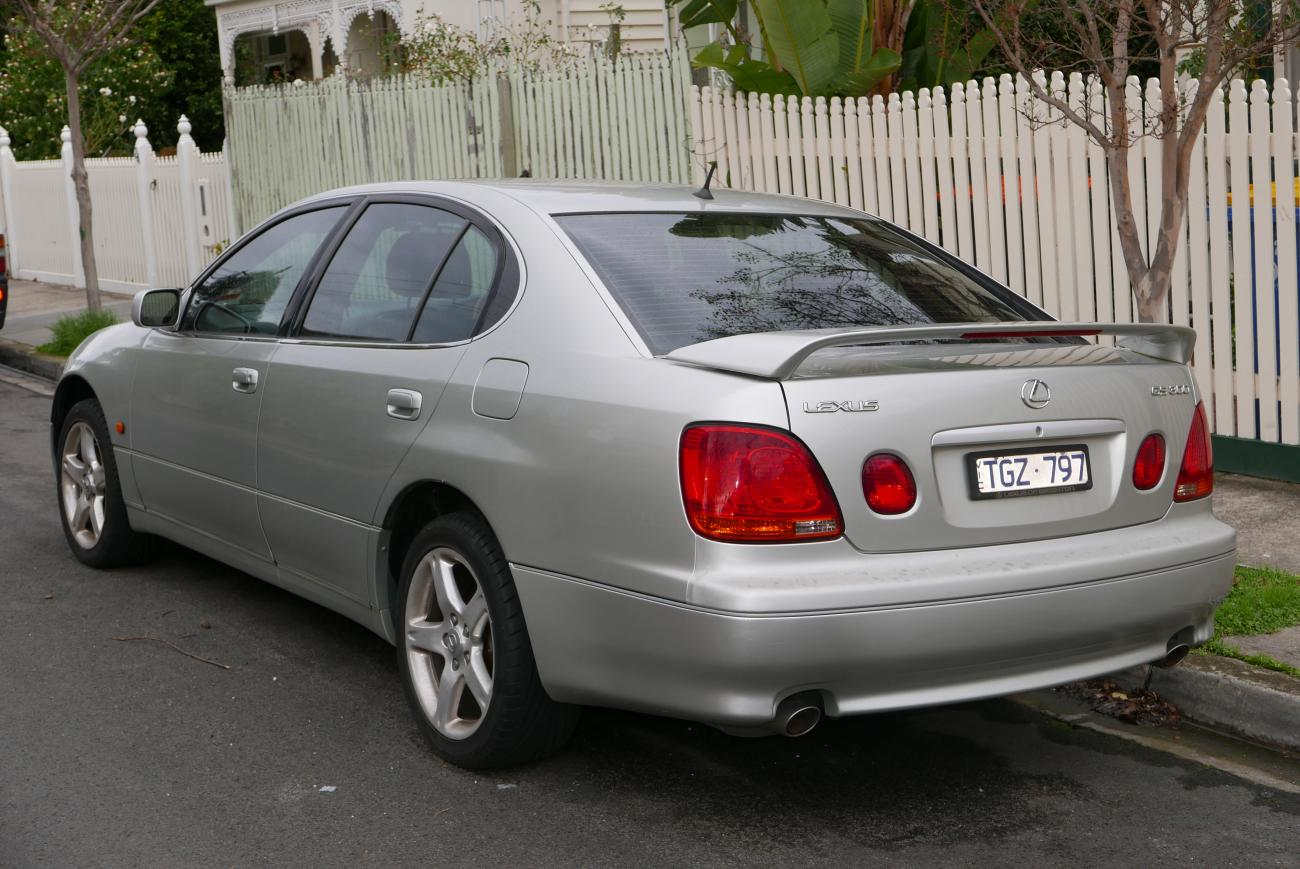car: (46, 171, 1245, 776)
